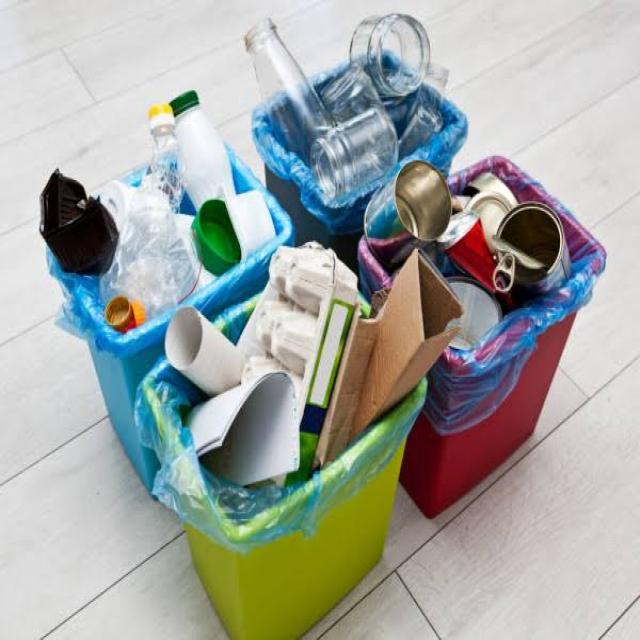cardboard: (221, 310, 392, 444)
glass: (303, 46, 415, 159)
metal: (443, 184, 560, 294)
plastic: (115, 136, 241, 262)
